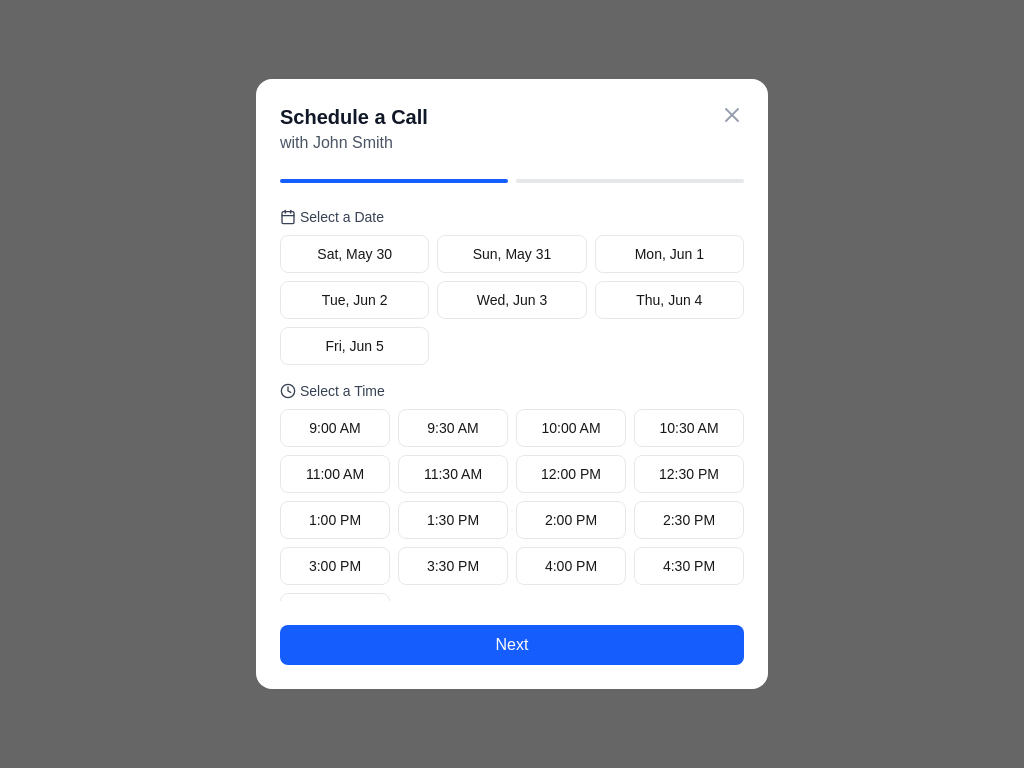
Test: ScheduleCallModal › Time step interactions › proceeds to info step when date and time are selected
Click the button "Sat, May 30": (355, 254) [280,235,429,273]
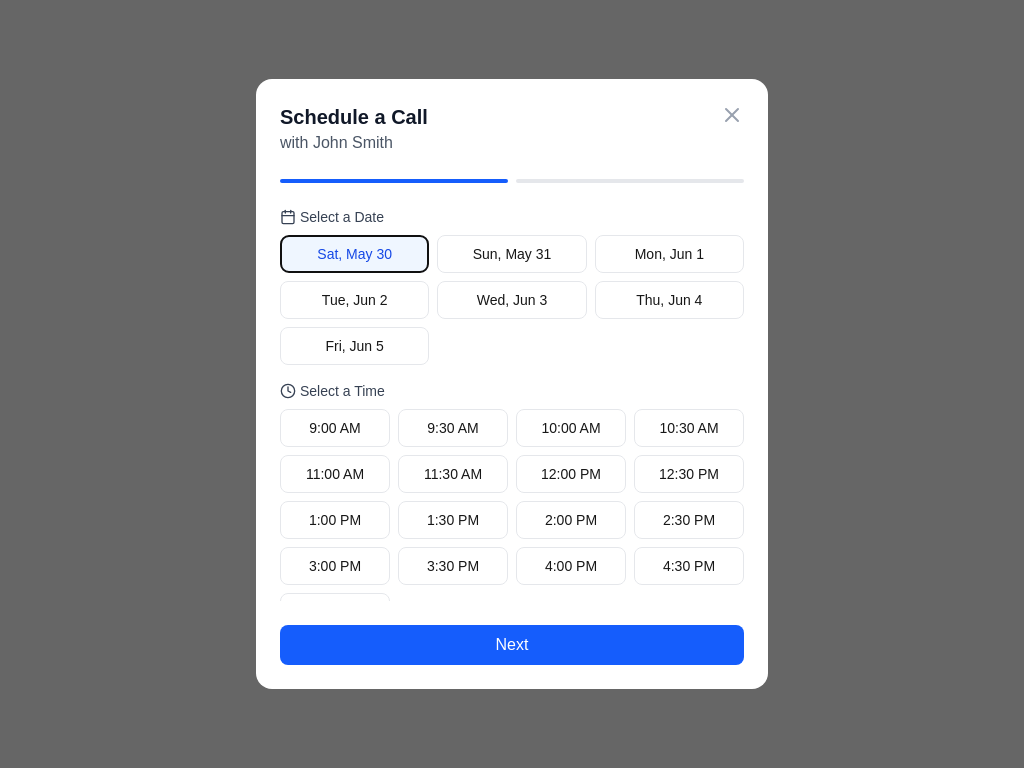
# Select time
Click the button "10:00 AM": (571, 428) [516,409,626,447]
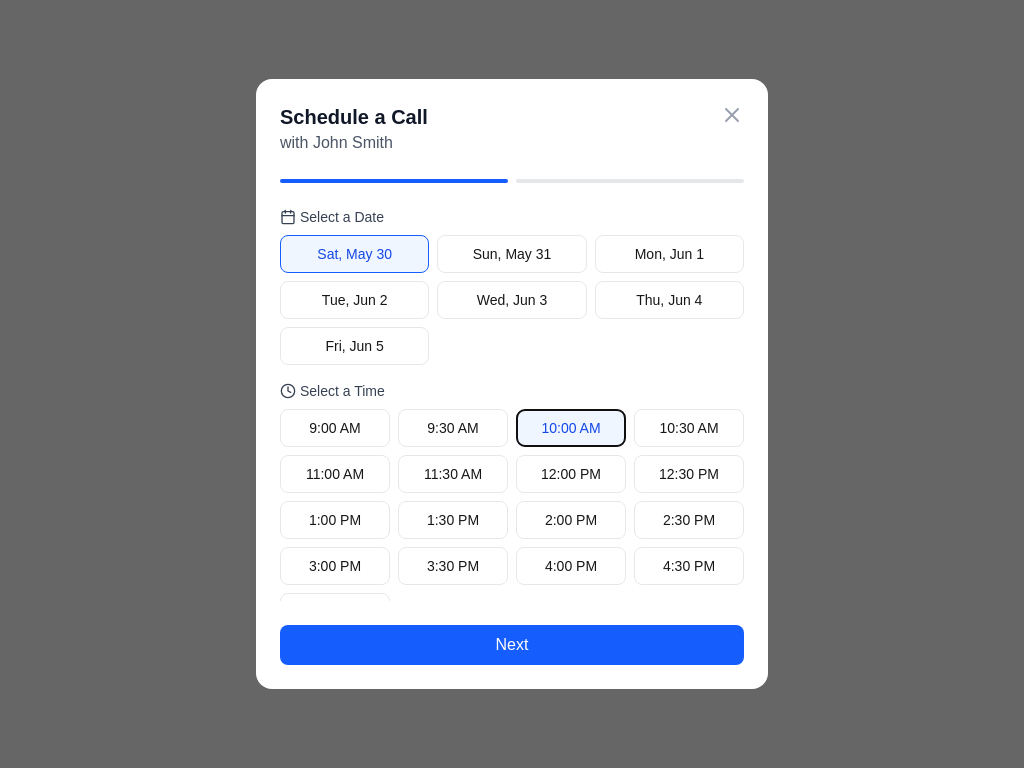
# Click Next
Click the button "Next": (512, 645) [280,625,744,665]
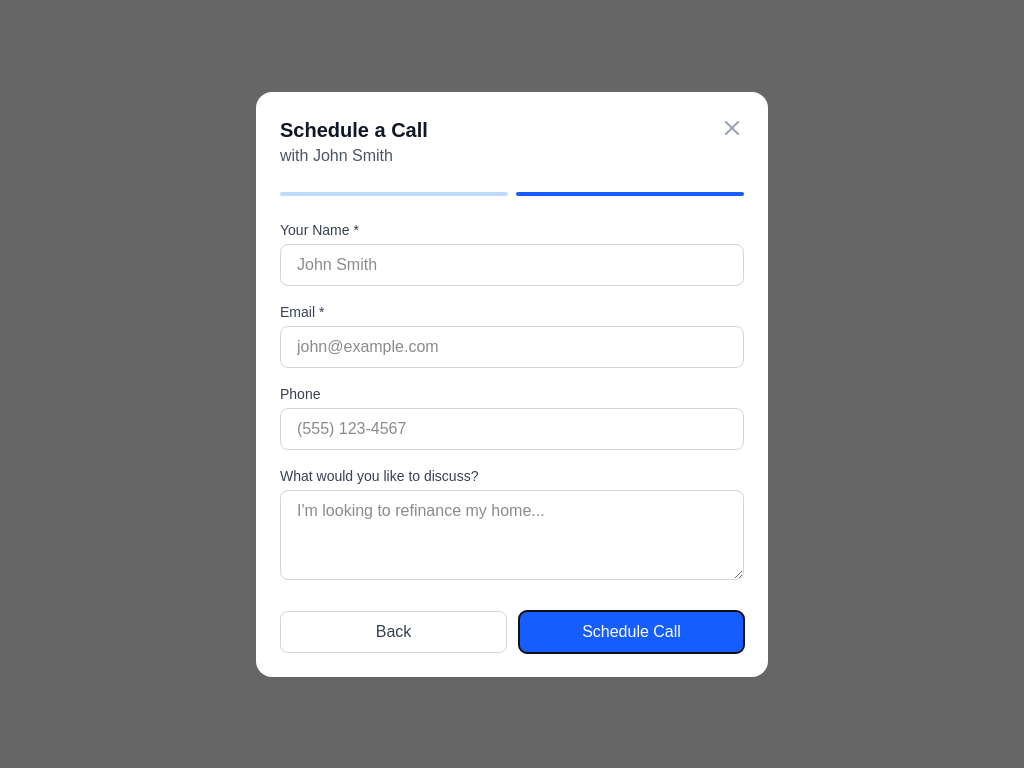
Check: the text "Your Name *" is shown, box [280,222,359,238]
Check: the text "Email *" is shown, box [280,304,324,320]
